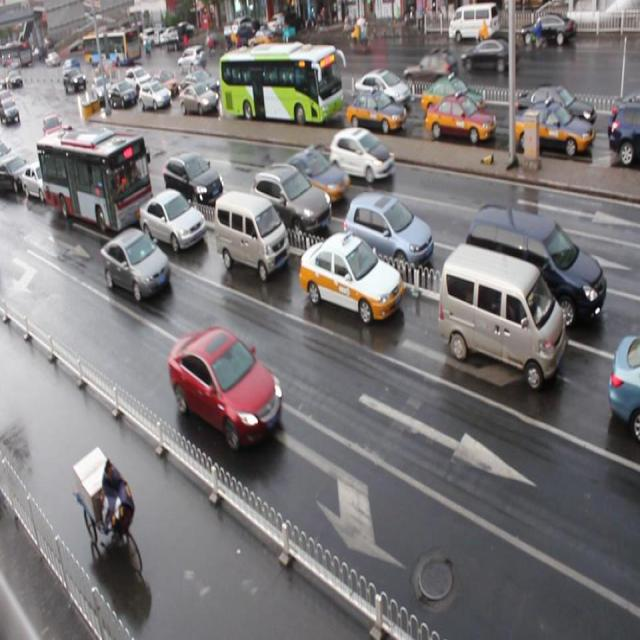car: (168, 324, 285, 455), (298, 228, 402, 322), (342, 194, 433, 278), (250, 162, 330, 234), (101, 226, 171, 300), (276, 145, 351, 208), (513, 99, 592, 157), (137, 186, 205, 251), (330, 126, 394, 187), (163, 150, 224, 210), (425, 92, 495, 142), (607, 331, 640, 437), (514, 85, 590, 130), (424, 74, 488, 120), (344, 85, 404, 133), (354, 69, 409, 110), (607, 98, 640, 160), (21, 158, 58, 202), (94, 138, 130, 180), (178, 82, 219, 116), (611, 93, 640, 140), (258, 68, 296, 103), (1, 152, 31, 193), (139, 78, 170, 113), (189, 69, 225, 99), (148, 68, 177, 97), (124, 64, 151, 92), (42, 114, 64, 148), (108, 81, 135, 107)
truck: (437, 240, 564, 388), (465, 200, 605, 330), (212, 187, 288, 279)
van: (36, 126, 154, 234), (216, 43, 340, 123)
